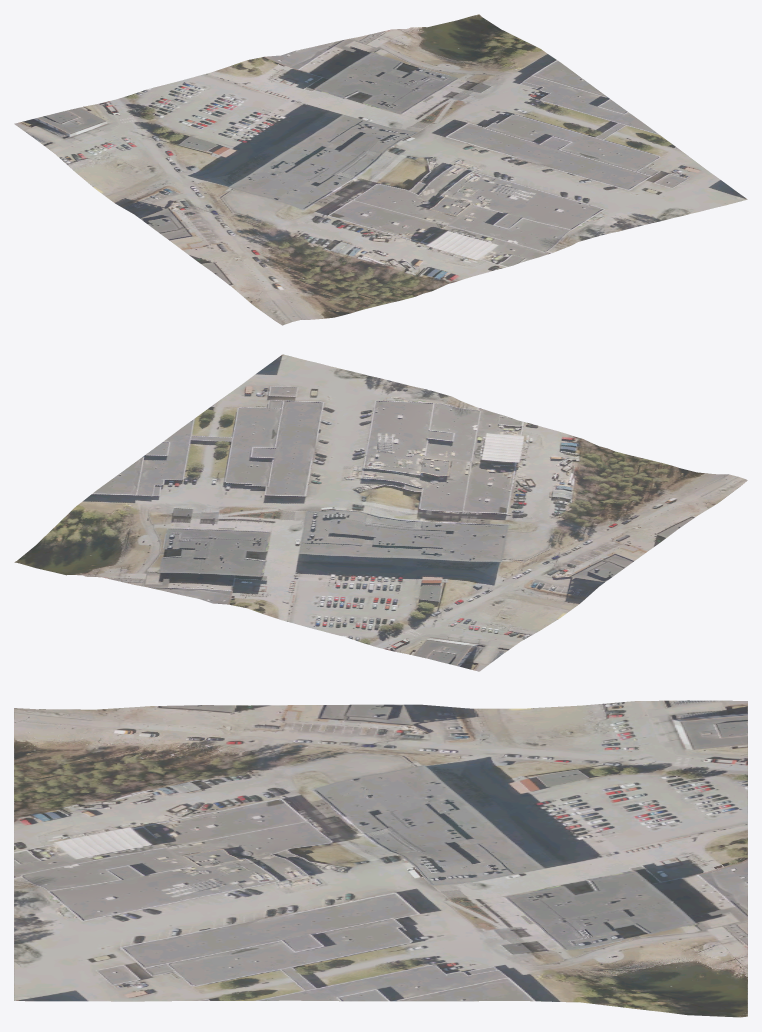
The model's file is CM_Terrain_24492097_6816312.fbx.
3 renders of one model, top to bottom at view 1: azimuth 30°, elevation 25°; view 2: azimuth 150°, elevation 25°; view 3: azimuth 270°, elevation 25°, orthographic. The views are drawn at different scales.
Parts seen in each view (by area): view 1: CM_Terrain_24492097_6816312_LOD0; view 2: CM_Terrain_24492097_6816312_LOD0; view 3: CM_Terrain_24492097_6816312_LOD0.
Boxes of the visible parts, x1,y1,x2,y2 form: CM_Terrain_24492097_6816312_LOD0: [14, 14, 747, 325]; CM_Terrain_24492097_6816312_LOD0: [14, 354, 747, 671]; CM_Terrain_24492097_6816312_LOD0: [14, 700, 747, 1017].
Size of what is drawn, in the model's own units: 205 by 7.63 by 205.
